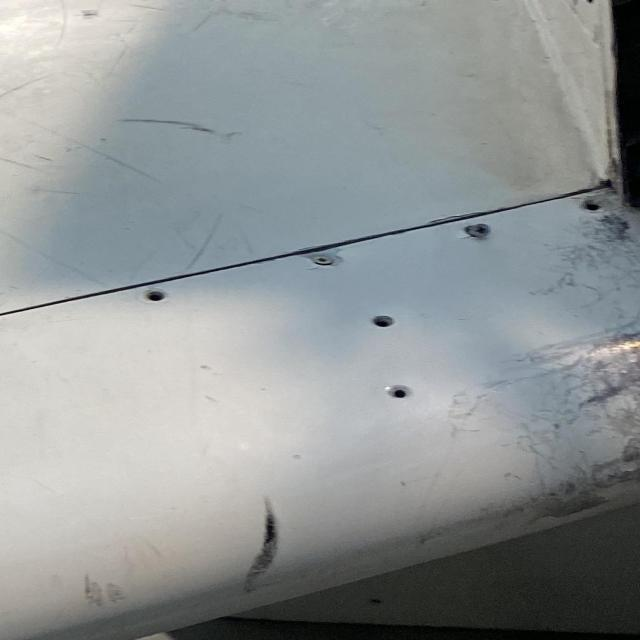Missing-head: (387, 385, 414, 400), (373, 314, 397, 329), (145, 289, 168, 302), (583, 199, 606, 212)
